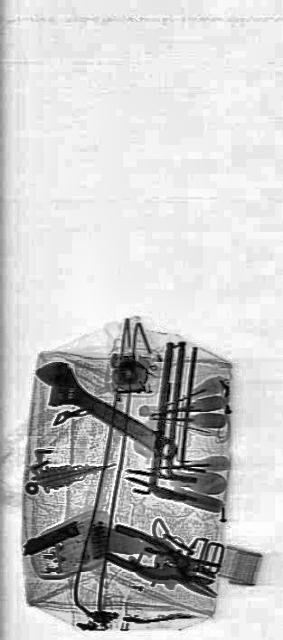Pliers: (104, 516, 216, 602), (128, 527, 220, 605)
Wrench: (31, 346, 180, 478)
